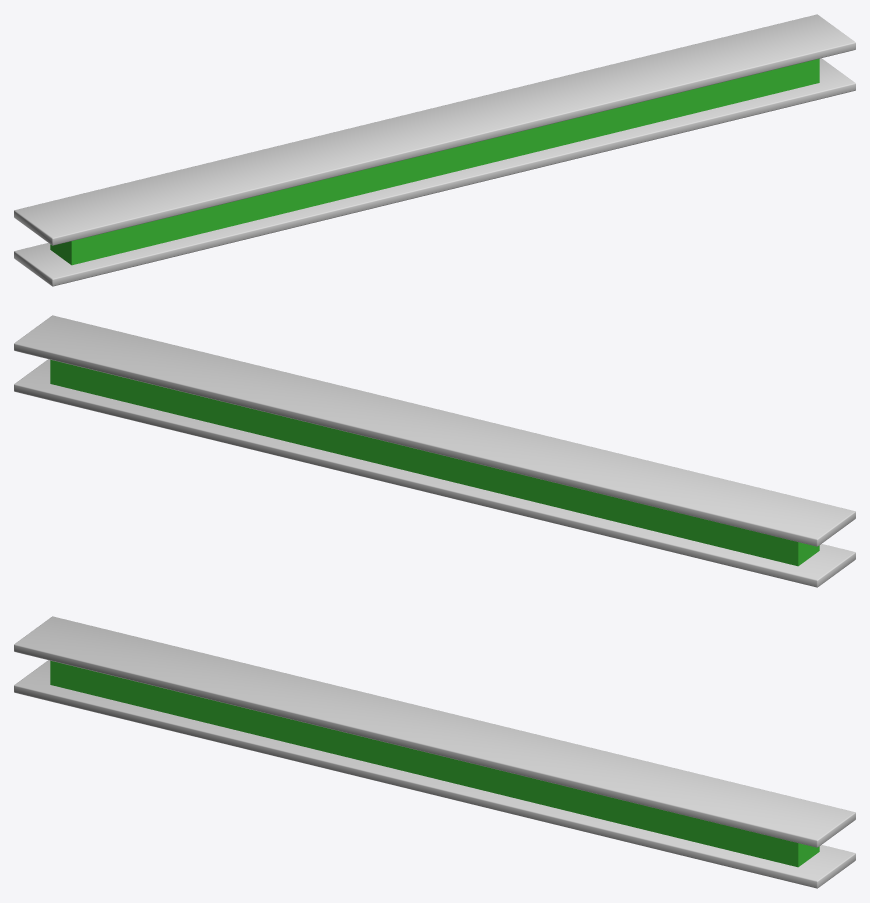
Rendered from metal-support.fbx.
3 views of the same model, one above another, from view 1: azimuth 30°, elevation 25°; view 2: azimuth 150°, elevation 25°; view 3: azimuth 330°, elevation 25° (orthographic).
Parts seen in each view (by area): view 1: Frame; view 2: Frame; view 3: Frame.
Part boxes in pixels (box(x1,y1,x2,y2)): Frame: box(14, 14, 855, 286); Frame: box(14, 315, 855, 587); Frame: box(14, 616, 855, 888).
Bounding box in the file's own units: 4.97 × 0.2872 × 0.4157.
